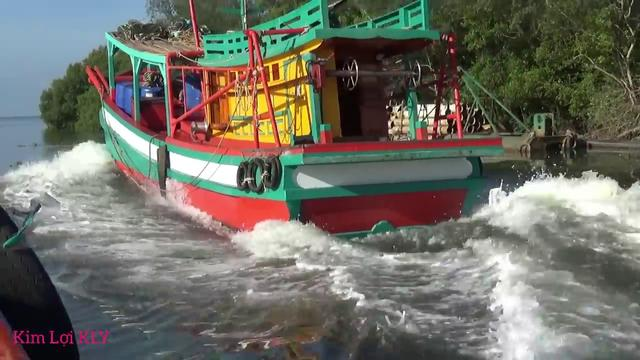Ship: (96, 28, 512, 242)
